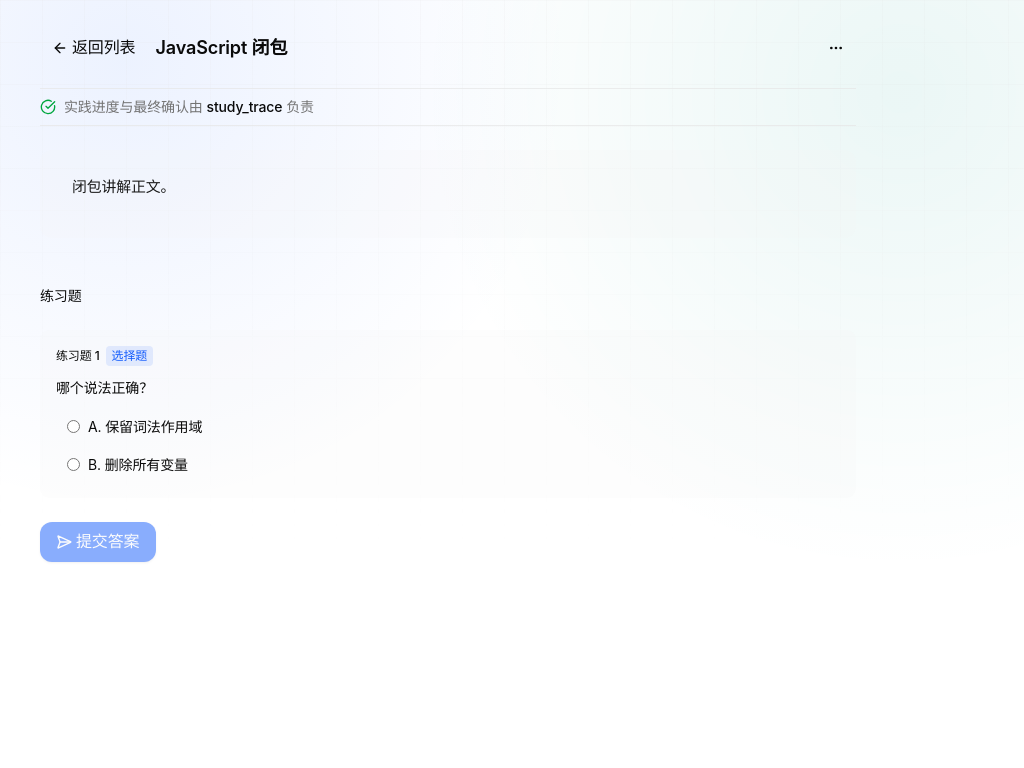
Test: TopicDetail › keeps explanation and assessment primary in study_trace practice mode
Expected: the message shows "study_trace", x1=206 y1=98 x2=282 y2=115
Expected: the text "闭包讲解正文。" is shown, x1=72 y1=178 x2=175 y2=196
Click the button titled "更多操作". click: x=836, y=48
box: x1=816 y1=32 x2=856 y2=64
(page scrolled)
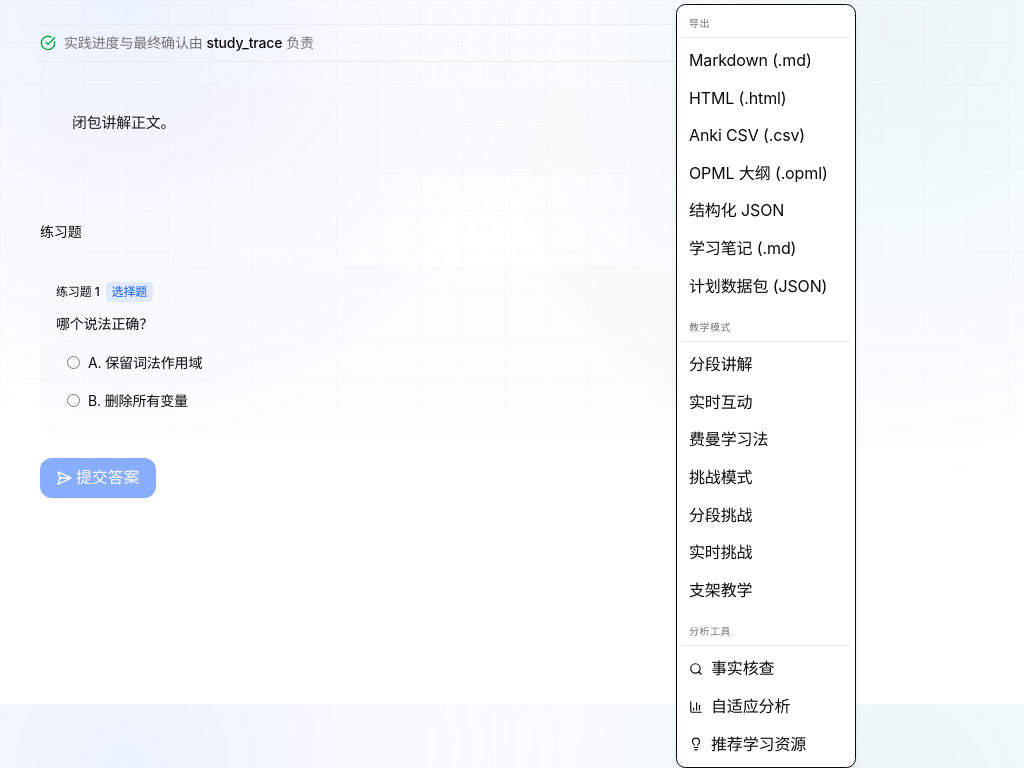
Expected: the button "Markdown (.md)" is shown, x1=681 y1=42 x2=851 y2=80
Expected: the button "推荐学习资源" is shown, x1=681 y1=726 x2=851 y2=763
